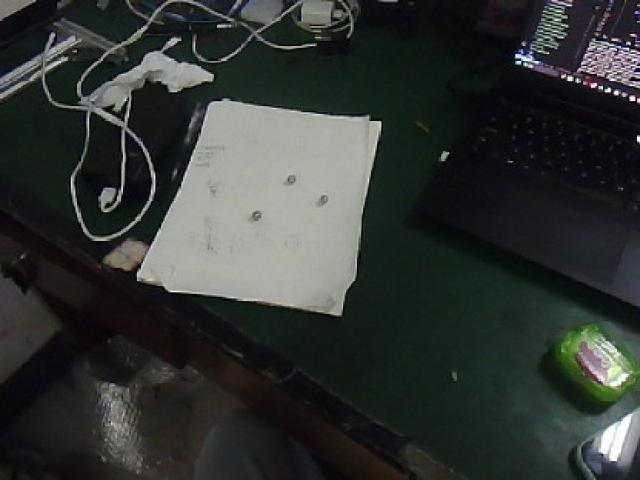steel-ball: (308, 183, 337, 219), (278, 154, 302, 184), (237, 202, 258, 232)
